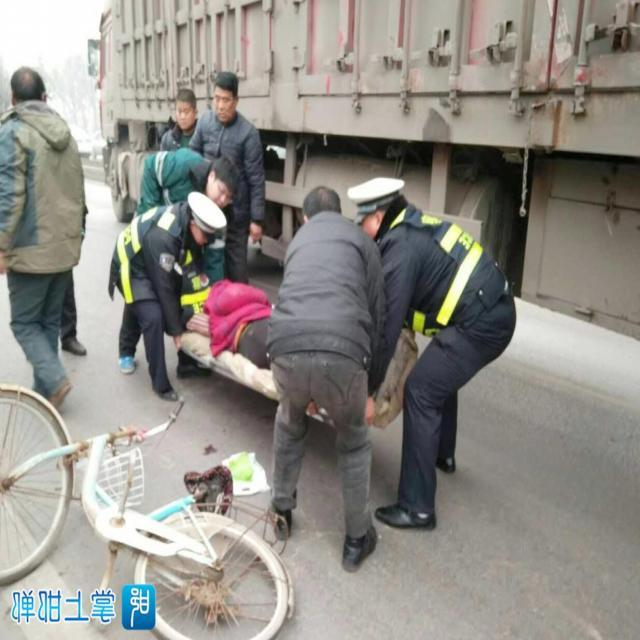fall: (188, 280, 366, 388)
